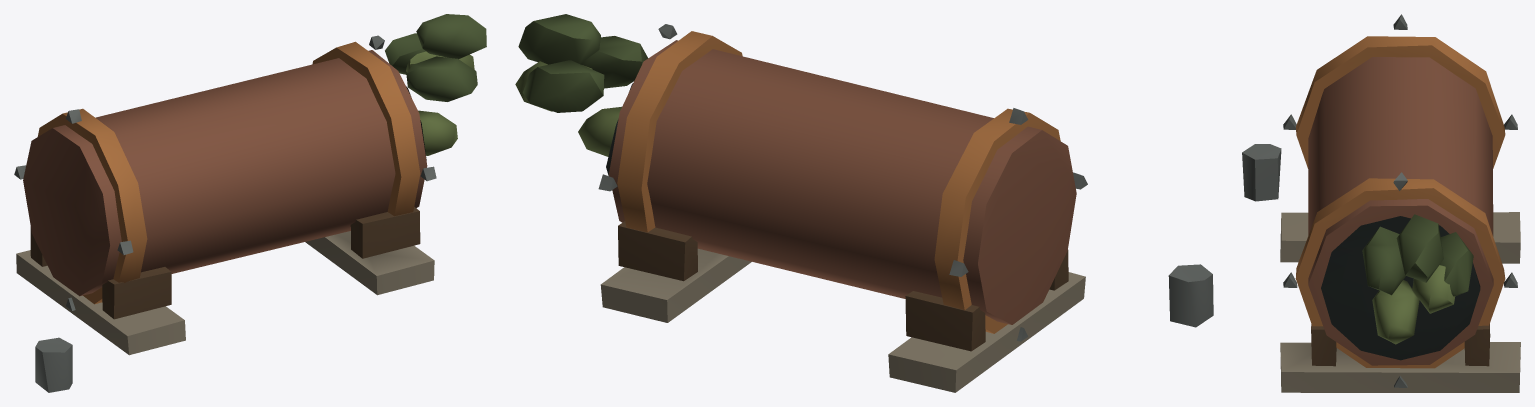
The model's file is pipe_section_b_lod2.glb.
3 views of the same model, side by side, from view 1: azimuth 30°, elevation 25°; view 2: azimuth 150°, elevation 25°; view 3: azimuth 270°, elevation 25° (orthographic). The views are drawn at different scales.
Visible parts, largest first — view 1: Surface.001; view 2: Surface.001; view 3: Surface.001.
Boxes of the visible parts, x1,y1,x2,y2 form: Surface.001: [14, 14, 486, 392]; Surface.001: [515, 14, 1213, 392]; Surface.001: [1242, 14, 1520, 392].
Bounding box in the file's own units: 4.18 × 1.59 × 1.82.
